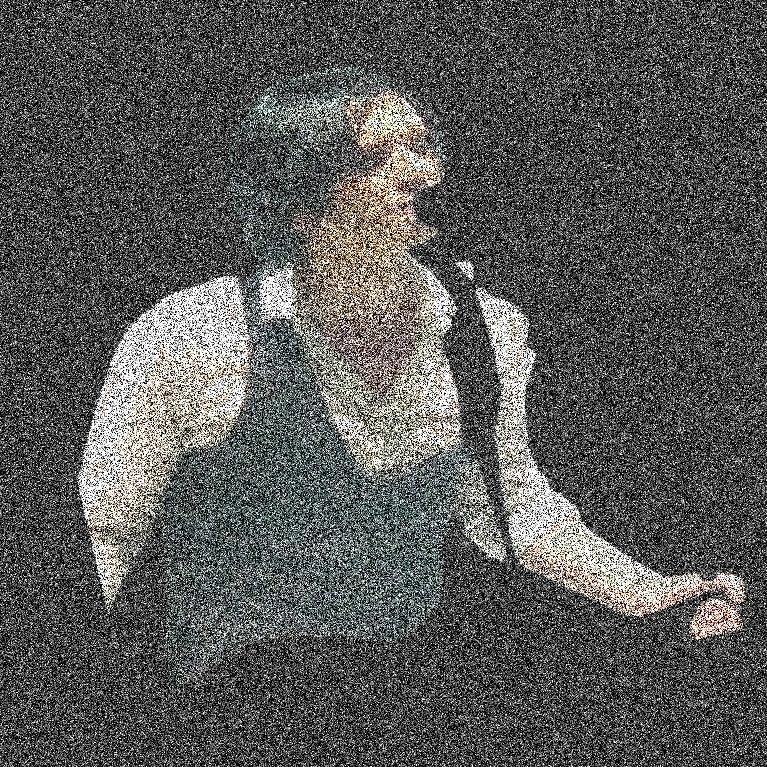Pessoa: (238, 0, 403, 766)
